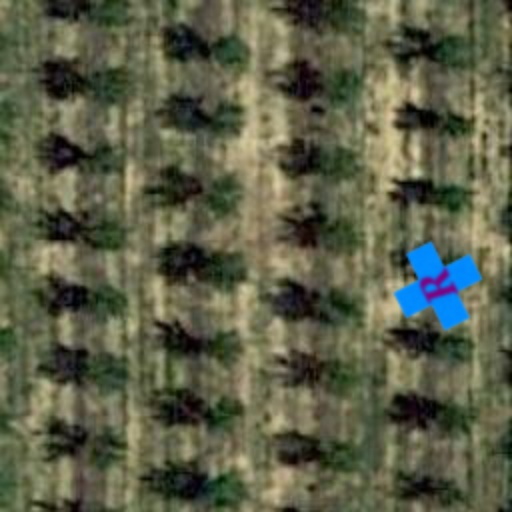cross: (380, 228, 496, 344)
